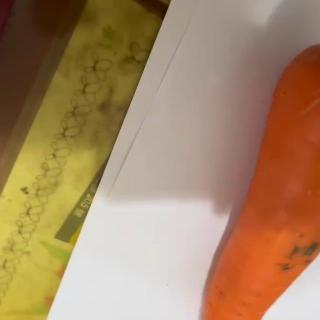carrot: (201, 1, 320, 320)
